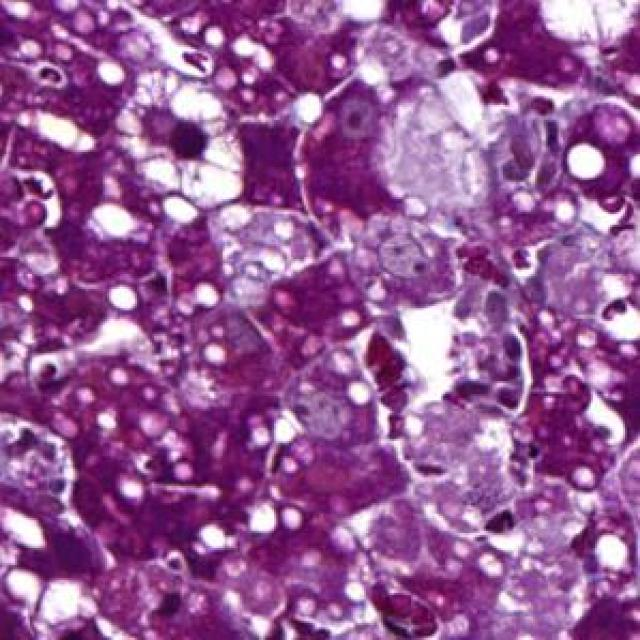ballooning: (105, 66, 255, 212)
